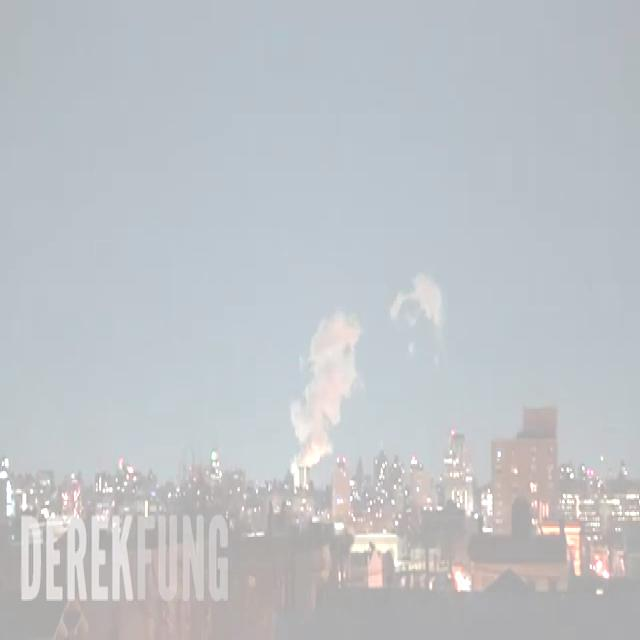smoke: (290, 309, 360, 466)
